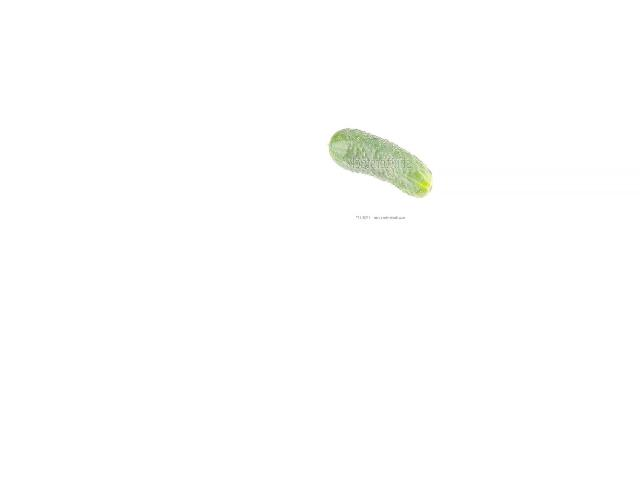cucumber: (327, 128, 432, 198)
